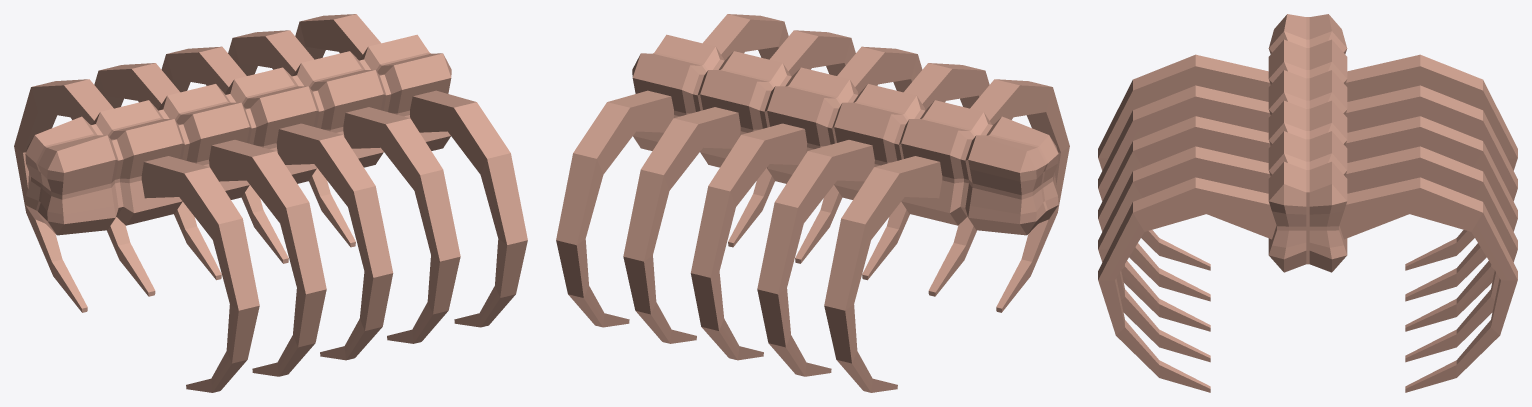
The model's file is rib-cage.glb.
The picture shows the model from 3 angles, left to right: view 1: azimuth 30°, elevation 25°; view 2: azimuth 150°, elevation 25°; view 3: azimuth 270°, elevation 25°; orthographic projection. The views are drawn at different scales.
Visible parts, largest first — view 1: bone1; view 2: bone1; view 3: bone1.
Part boxes in pixels (bbox=[...]): bone1: bbox=[14, 14, 527, 392]; bone1: bbox=[556, 14, 1069, 392]; bone1: bbox=[1098, 14, 1517, 392].
Bounding box in the file's own units: 0.0697 × 0.0389 × 0.0674.
